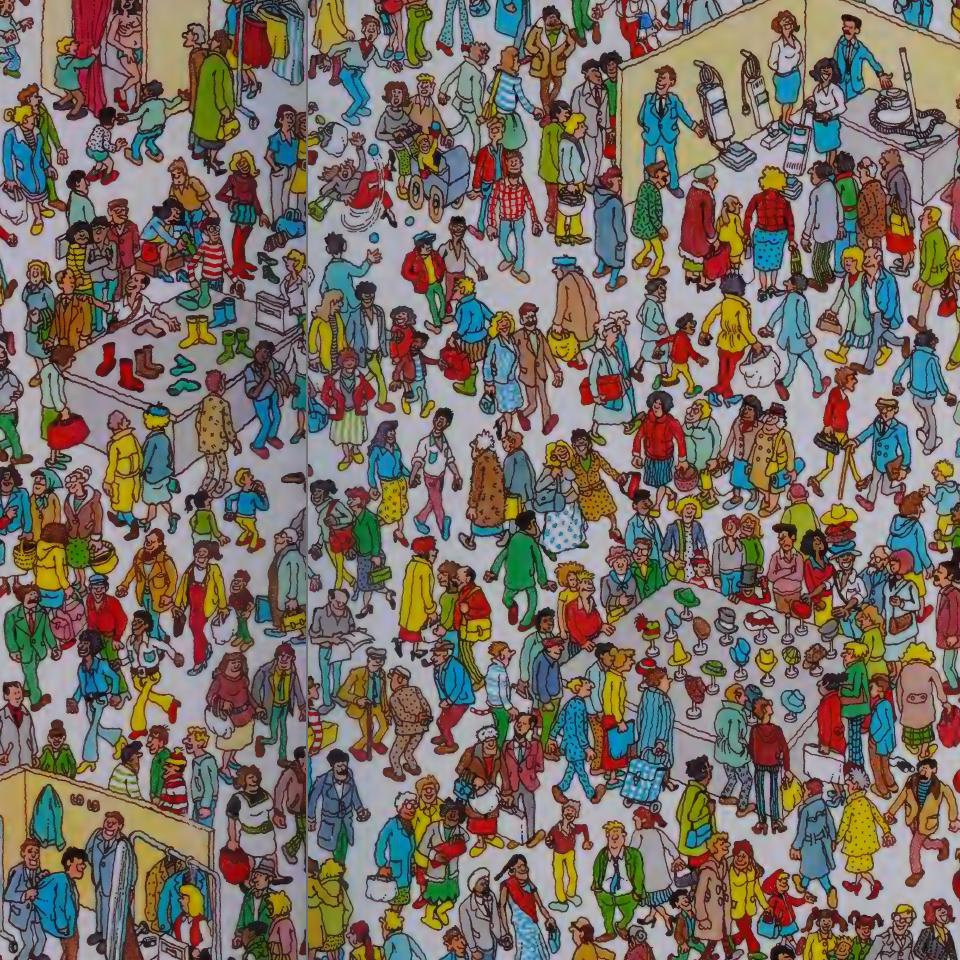waldo: (187, 215, 237, 289)
